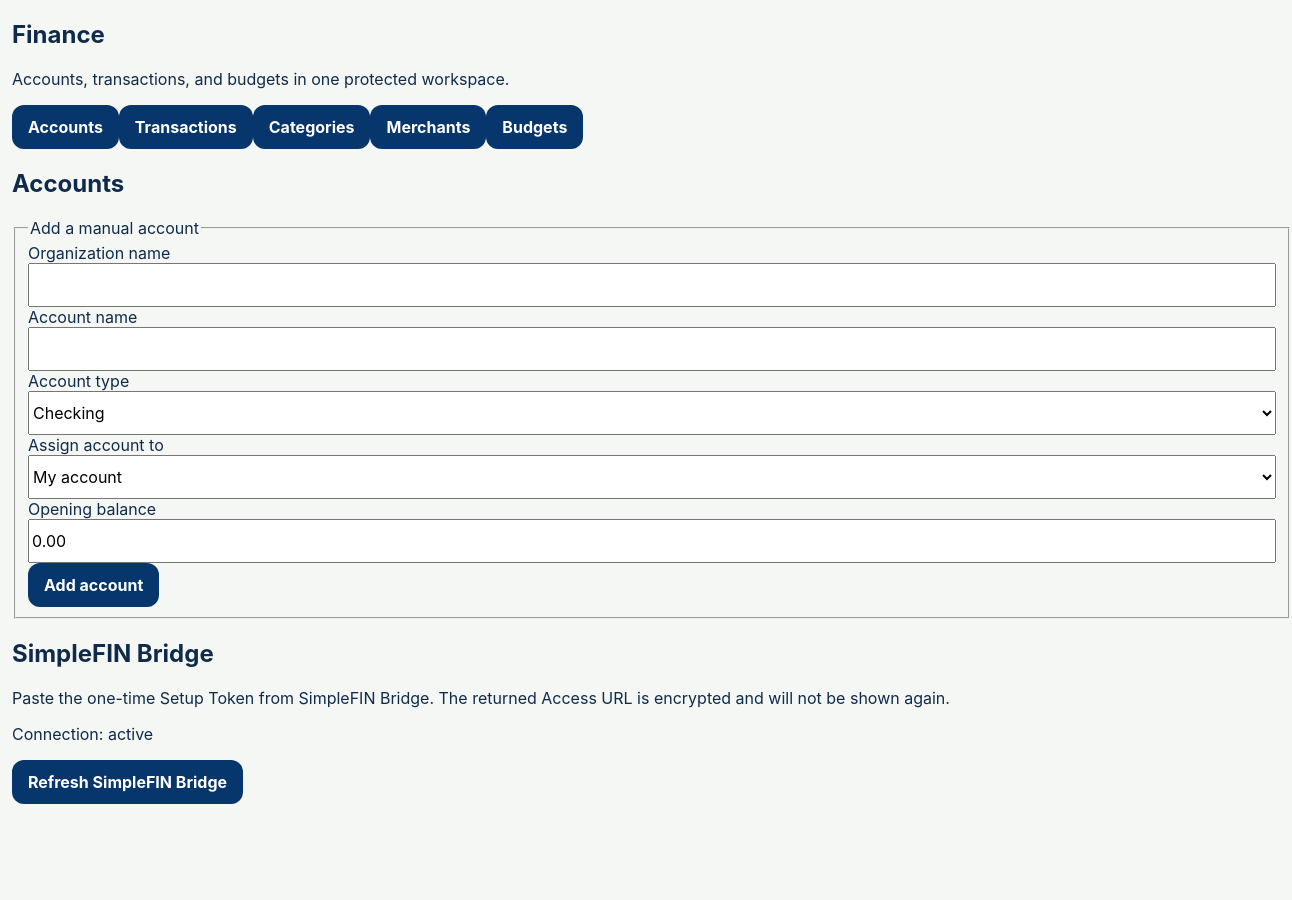
Test: preserves a running import through sync refreshes and transient polling failures
Click the button "Refresh SimpleFIN Bridge" at (128, 782), box 12,760 -> 243,804
Wait 6000 ms
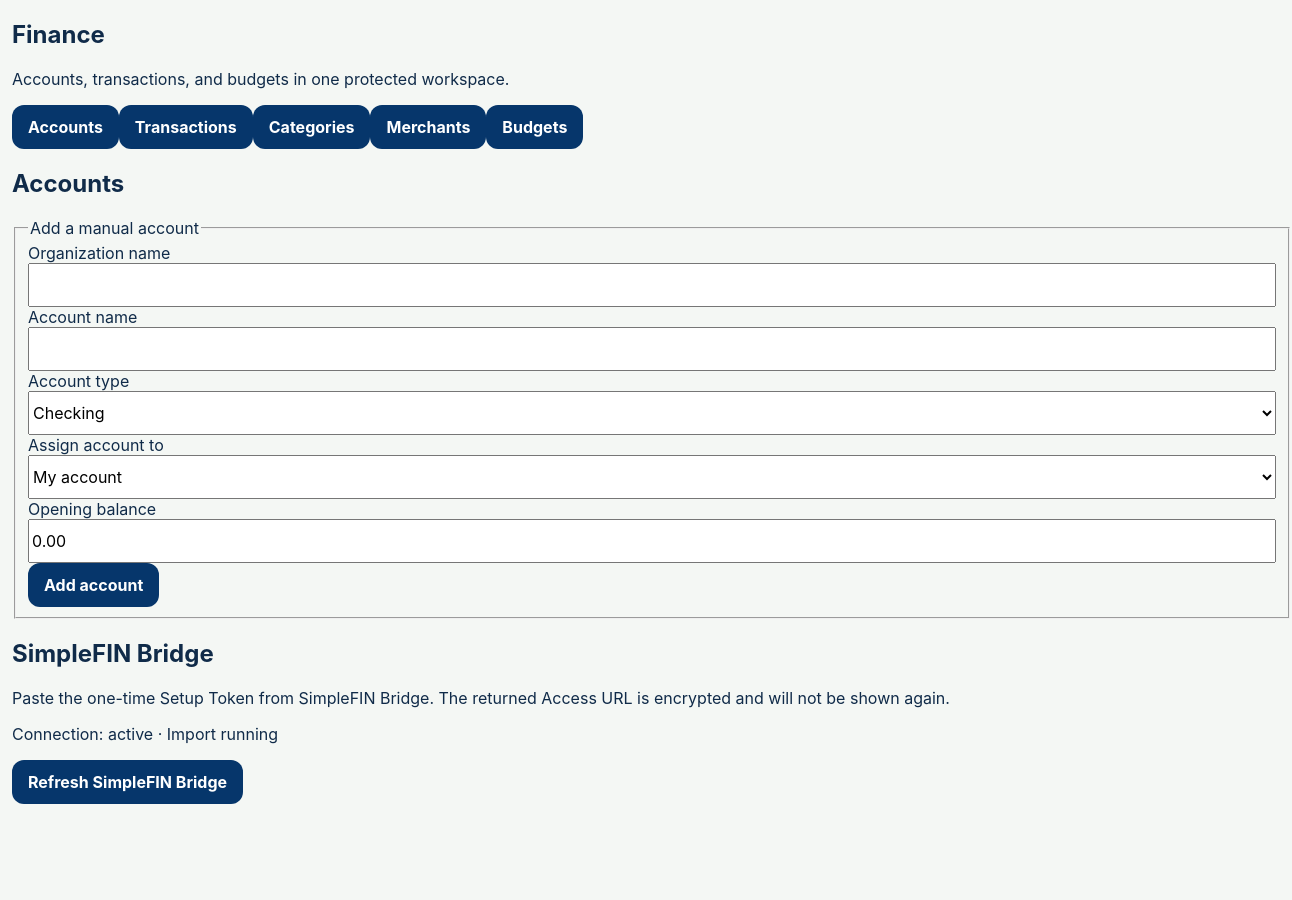
Result: the text "Connection: active · Import running" is shown at 12,724 -> 278,744
